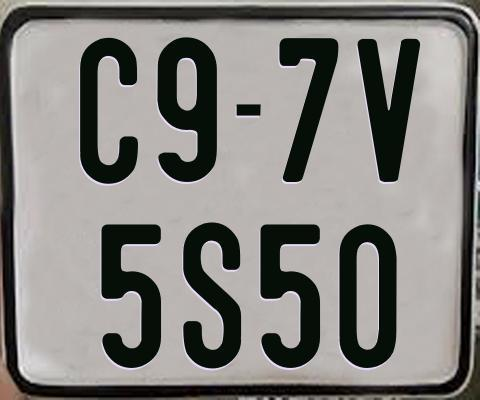0: (337, 221, 398, 366)
5: (259, 224, 321, 373), (98, 221, 159, 366)
7: (278, 38, 341, 183)
9: (155, 37, 218, 188)
C: (80, 37, 143, 189)
S: (181, 221, 242, 367)
V: (356, 36, 421, 185)
